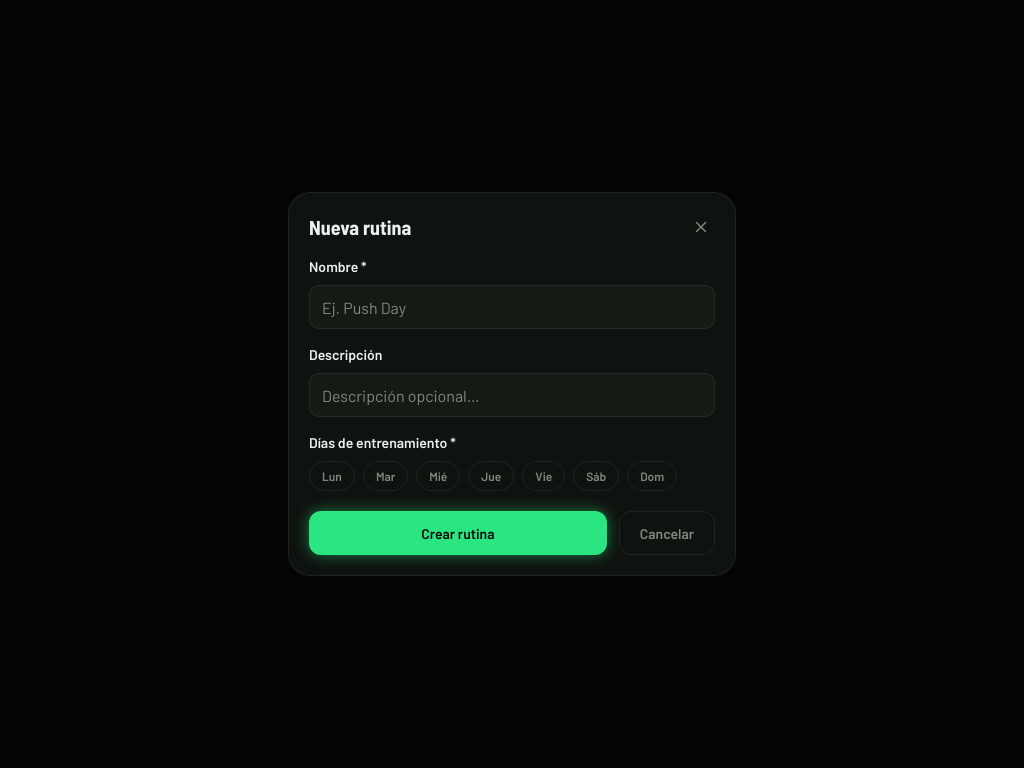
Scenario: NewRoutineModal › shows a validation error when submitting without selecting any day
This screenshot has width=1024, height=768.
Step 1. Type "Push Day" into the field labelled "Nombre *" → {"x": 512, "y": 307}, box [309,285,715,329]
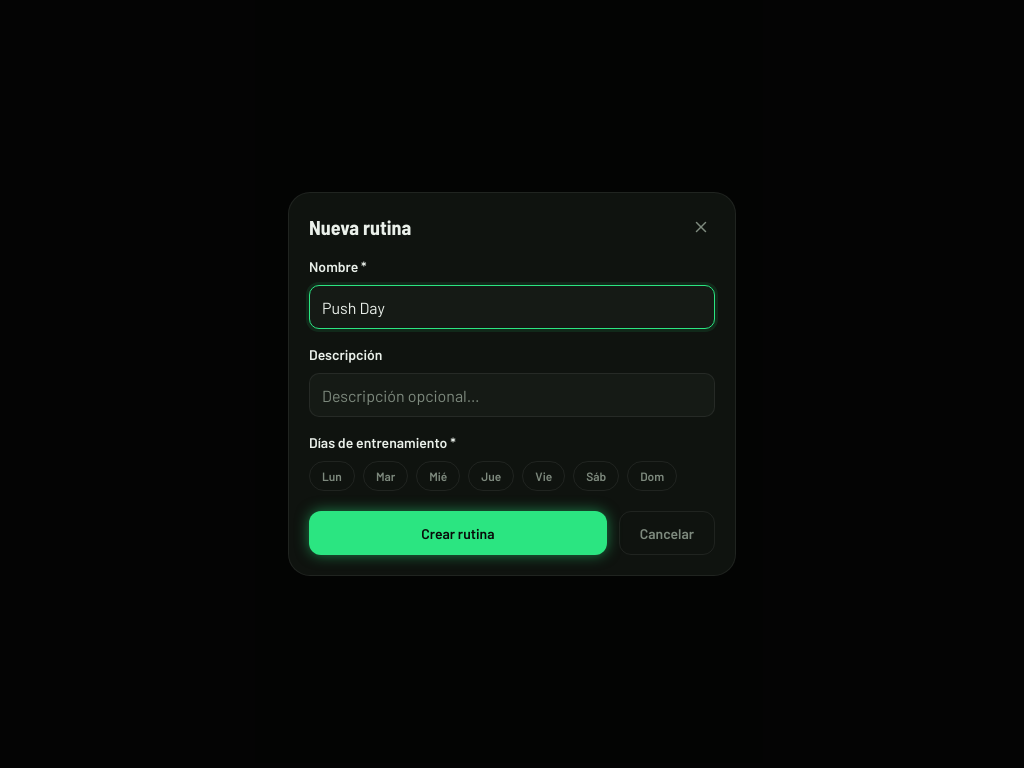
Step 2. Click the button "Crear rutina" → {"x": 458, "y": 533}, box [309,511,607,555]
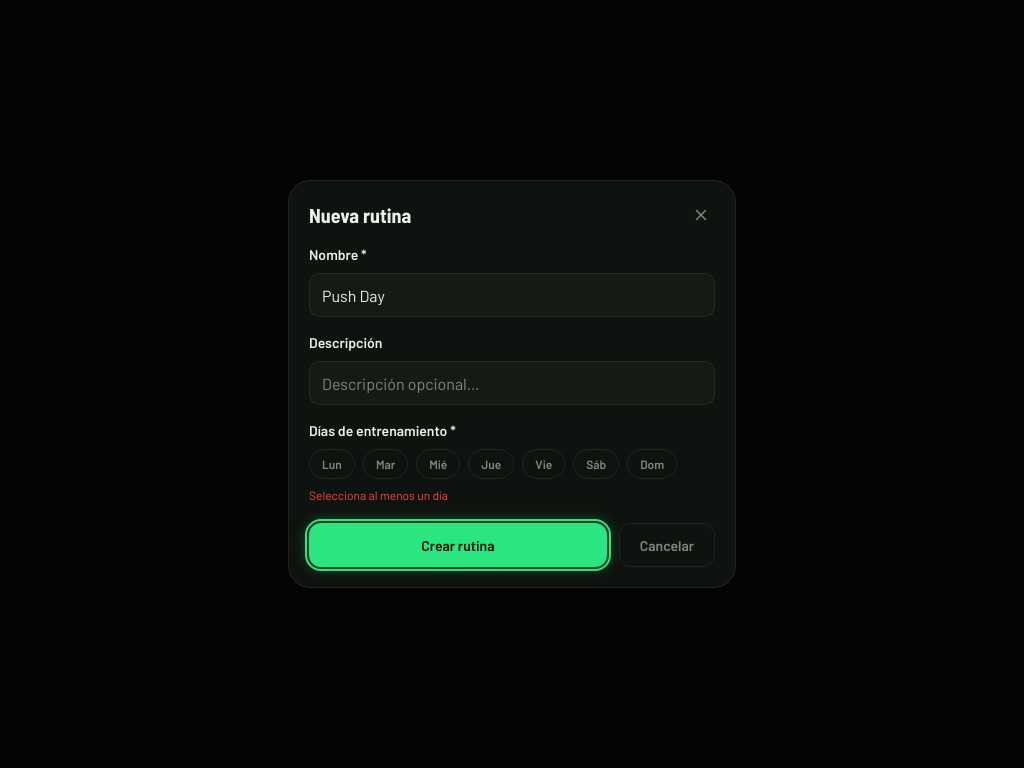
Check: the text "Selecciona al menos un día" is shown, box [309,488,448,502]
